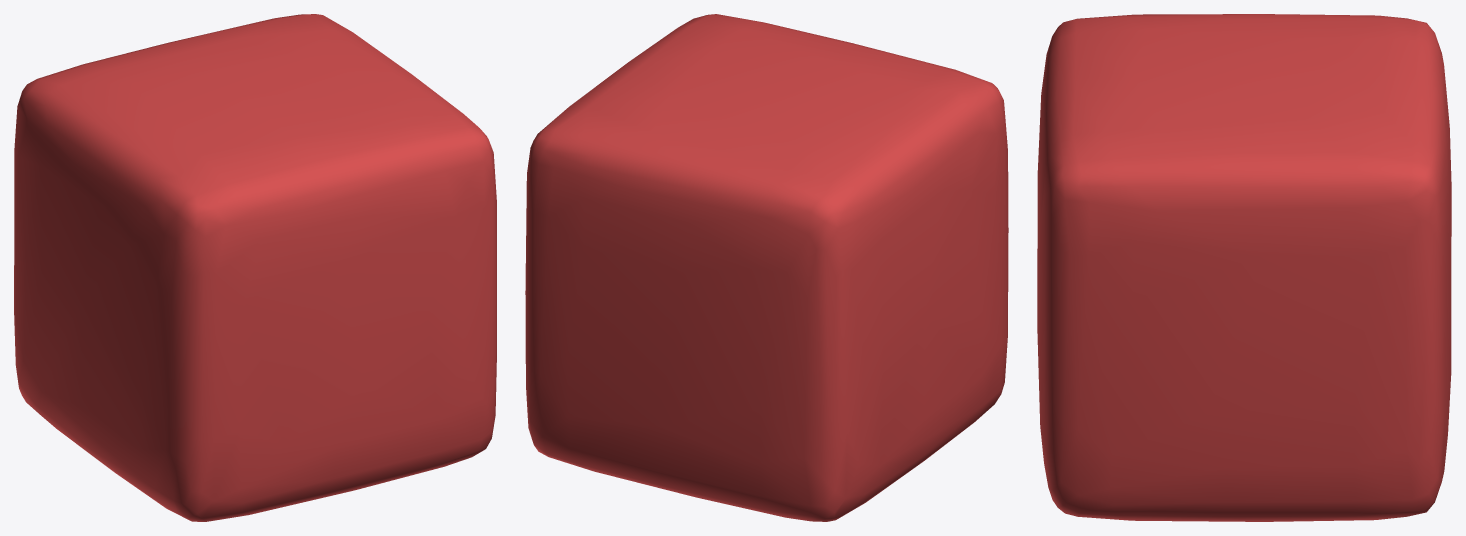
Rendered from RoundedBoxMesh.fbx.
3 views of the same model, side by side, from view 1: azimuth 30°, elevation 25°; view 2: azimuth 150°, elevation 25°; view 3: azimuth 270°, elevation 25° (orthographic). The views are drawn at different scales.
Parts seen in each view (by area): view 1: Cube.001; view 2: Cube.001; view 3: Cube.001.
Boxes of the visible parts, left/top/right/bottom form: Cube.001: left=14, top=14, right=496, bottom=521; Cube.001: left=525, top=14, right=1008, bottom=521; Cube.001: left=1037, top=14, right=1451, bottom=521.
Size of the model in its own units: 200 by 199 by 199.
